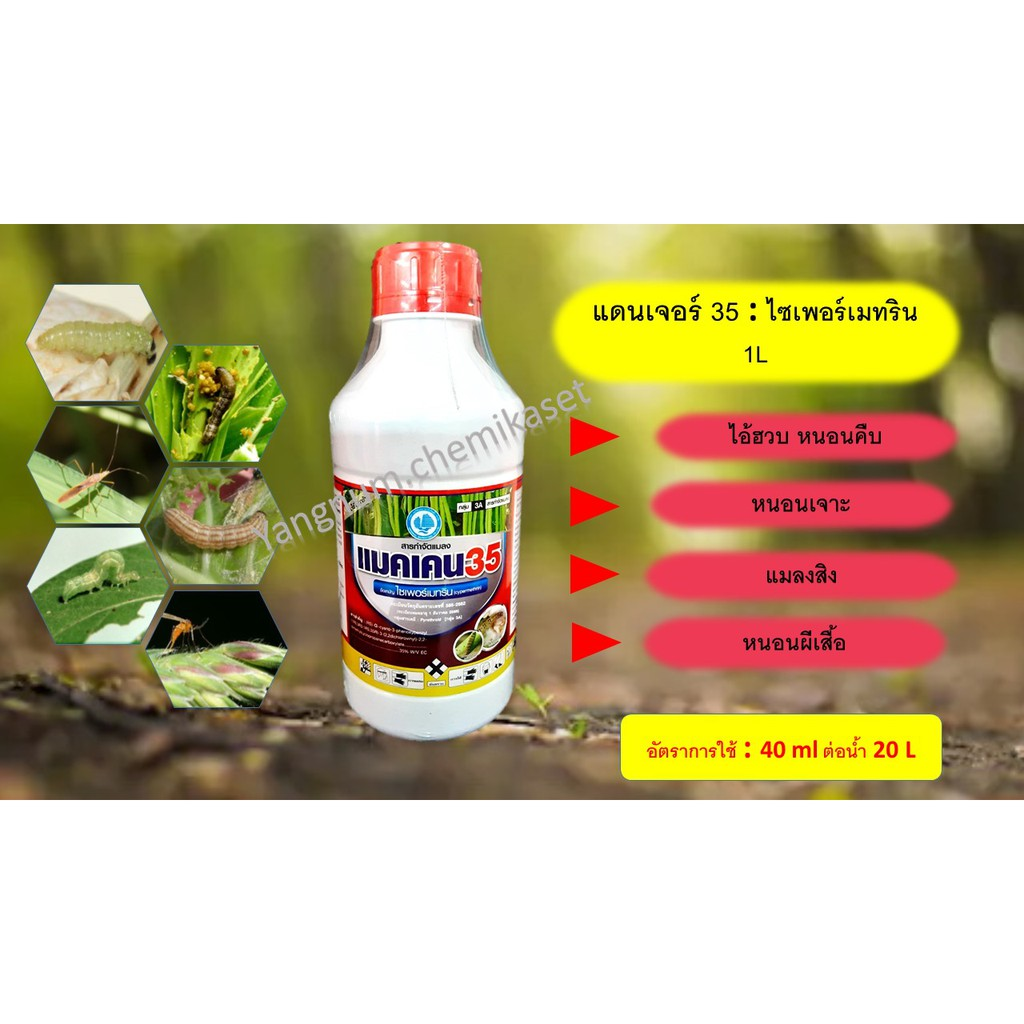Insecticide: (324, 234, 543, 750)
